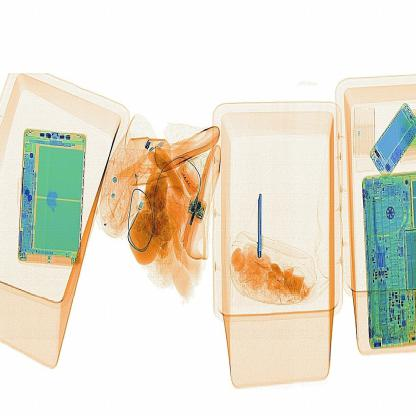pliers: (248, 187, 270, 266)
